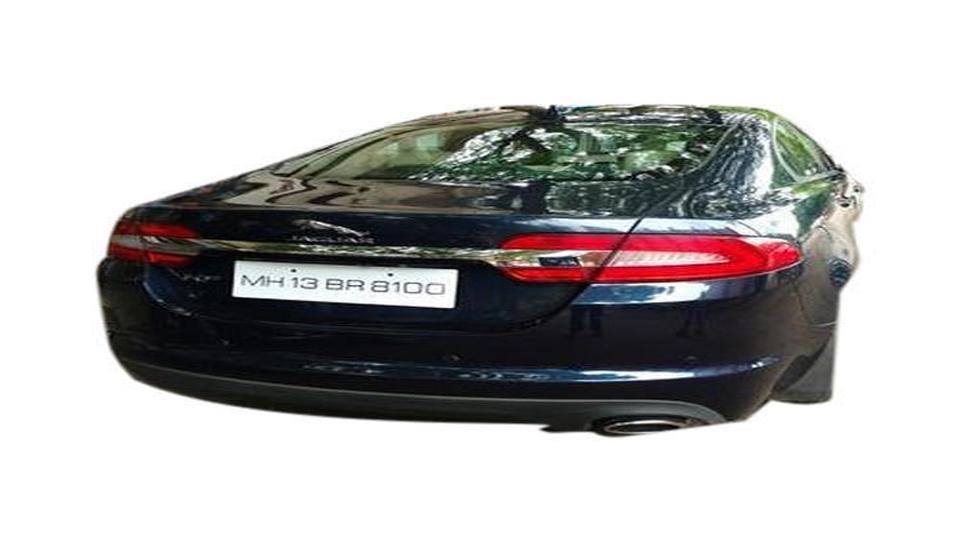NumberPlate: (210, 237, 465, 328)
